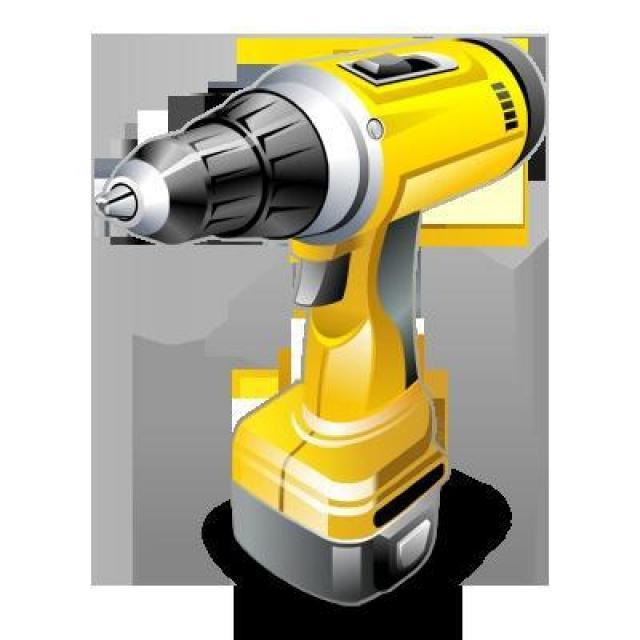drill: (94, 34, 546, 604)
